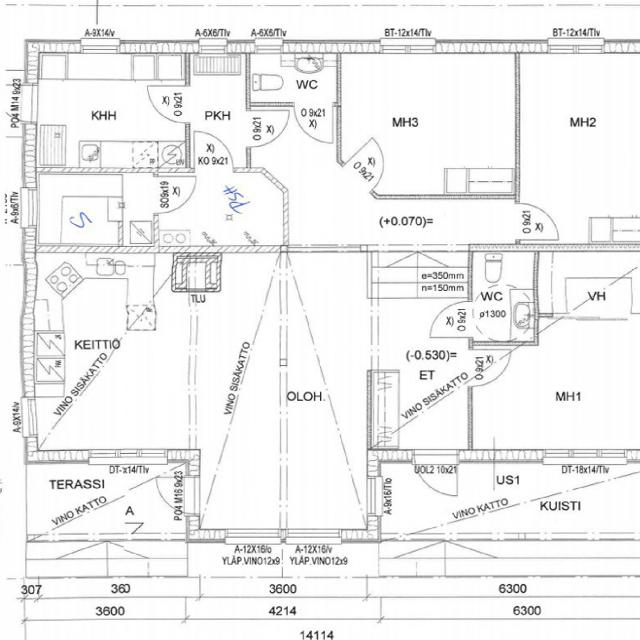door: (342, 138, 400, 192), (414, 450, 457, 502), (146, 476, 200, 514), (194, 130, 233, 172), (154, 176, 198, 213), (146, 86, 189, 123), (246, 110, 289, 147), (294, 102, 333, 142), (468, 349, 510, 386), (430, 301, 472, 337), (516, 204, 558, 240), (0, 85, 34, 120)
